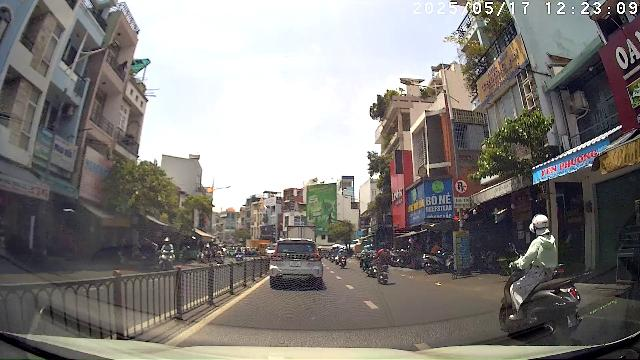124b-cam-oto-quay-dau-xe: (453, 177, 469, 195)
